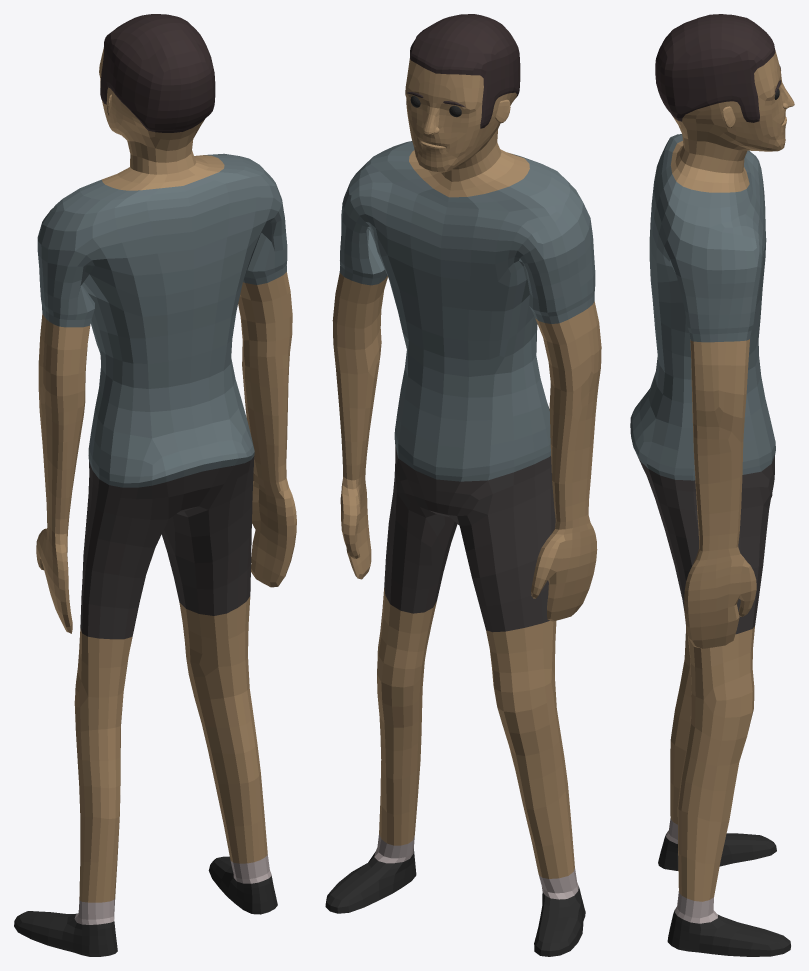
The model's file is Smooth_Male_Casual.glb.
3 views of the same model, side by side, from view 1: azimuth 30°, elevation 25°; view 2: azimuth 150°, elevation 25°; view 3: azimuth 270°, elevation 25° (orthographic).
Parts seen in each view (by area): view 1: Smooth_Male_Casual; view 2: Smooth_Male_Casual; view 3: Smooth_Male_Casual.
Boxes of the visible parts, <box> form: Smooth_Male_Casual: <box>14,14,296,956</box>; Smooth_Male_Casual: <box>325,14,601,956</box>; Smooth_Male_Casual: <box>630,14,794,956</box>.
Bounding box in the file's own units: 1.41 × 4.82 × 0.8121.
